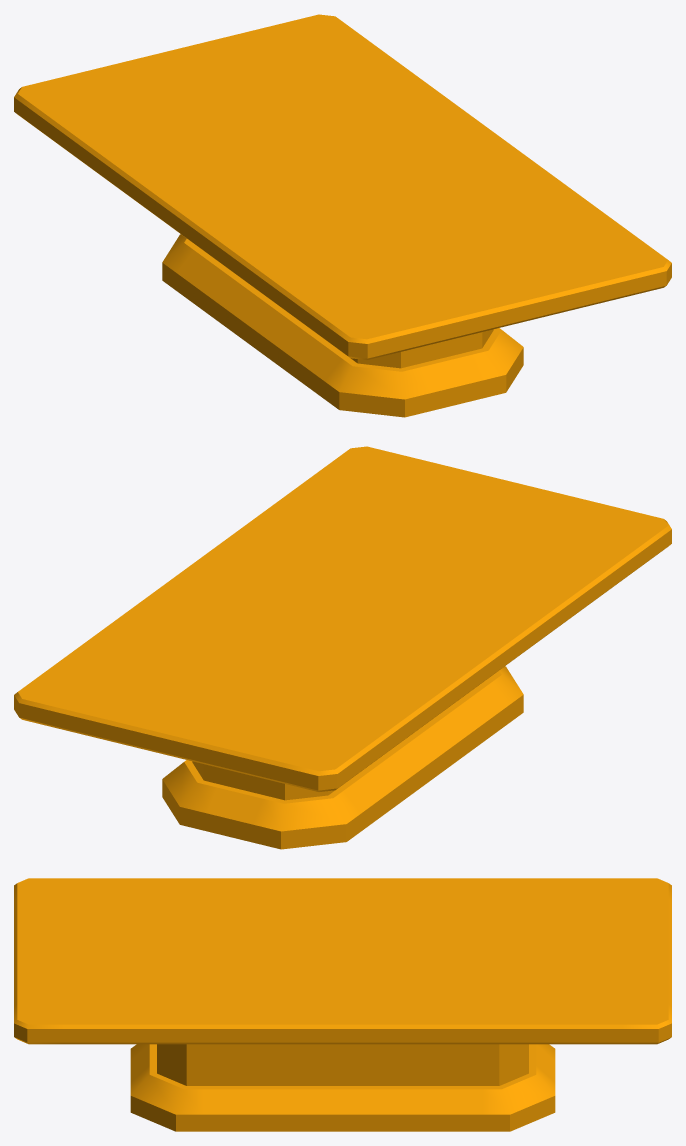
File: centrode_mesa.fbx
The picture shows the model from 3 angles, top to bottom: view 1: azimuth 30°, elevation 25°; view 2: azimuth 150°, elevation 25°; view 3: azimuth 270°, elevation 25°; orthographic projection. The views are drawn at different scales.
Parts seen in each view (by area): view 1: mesa; view 2: mesa; view 3: mesa.
Boxes of the visible parts, bbox=[...] form: mesa: bbox=[14, 14, 671, 417]; mesa: bbox=[14, 446, 671, 849]; mesa: bbox=[14, 878, 671, 1131].
Bounding box in the file's own units: 108 × 46.68 × 202.
